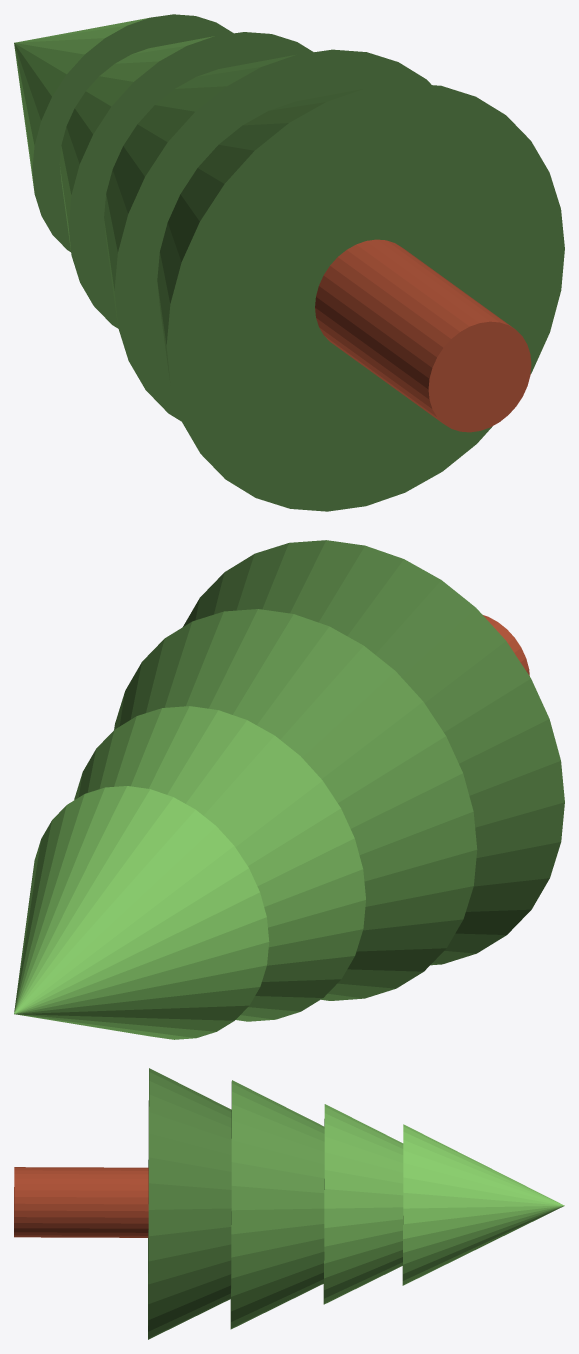
The model's file is Træ.fbx.
3 views of the same model, one above another, from view 1: azimuth 30°, elevation 25°; view 2: azimuth 150°, elevation 25°; view 3: azimuth 270°, elevation 25° (orthographic). The views are drawn at different scales.
Parts seen in each view (by area): view 1: Cylinder; view 2: Cylinder; view 3: Cylinder.
Boxes of the visible parts, box(x1,y1,x2,y2) form: Cylinder: box(14, 14, 564, 511); Cylinder: box(14, 540, 564, 1039); Cylinder: box(14, 1068, 564, 1339).
Size of the model in its own units: 7.88 by 7.88 by 15.96.
1 material, 1 textured.
